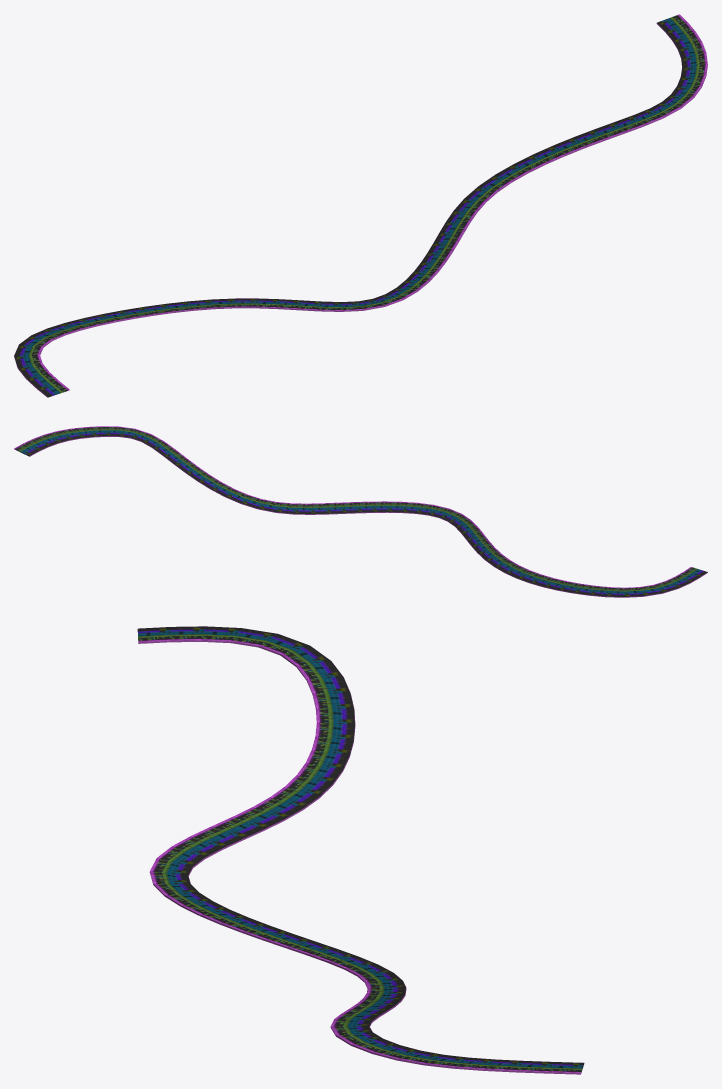
Rendered from invisible.gltf.
3 renders of one model, top to bottom at view 1: azimuth 30°, elevation 25°; view 2: azimuth 150°, elevation 25°; view 3: azimuth 270°, elevation 25°, orthographic. The views are drawn at different scales.
Parts seen in each view (by area): view 1: Plane; view 2: Plane; view 3: Plane.
Boxes of the visible parts, left/top/right/bottom form: Plane: left=14, top=14, right=707, bottom=397; Plane: left=14, top=426, right=707, bottom=597; Plane: left=137, top=626, right=584, bottom=1074.
Size of the model in its own units: 189 by 20.23 by 62.51.
Materials: 1 (1 with a texture image).
